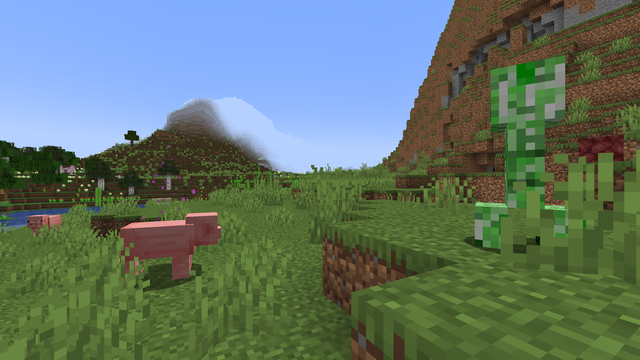cochons: (124, 217, 192, 290), (29, 214, 63, 237)
creepers: (472, 41, 577, 258)
